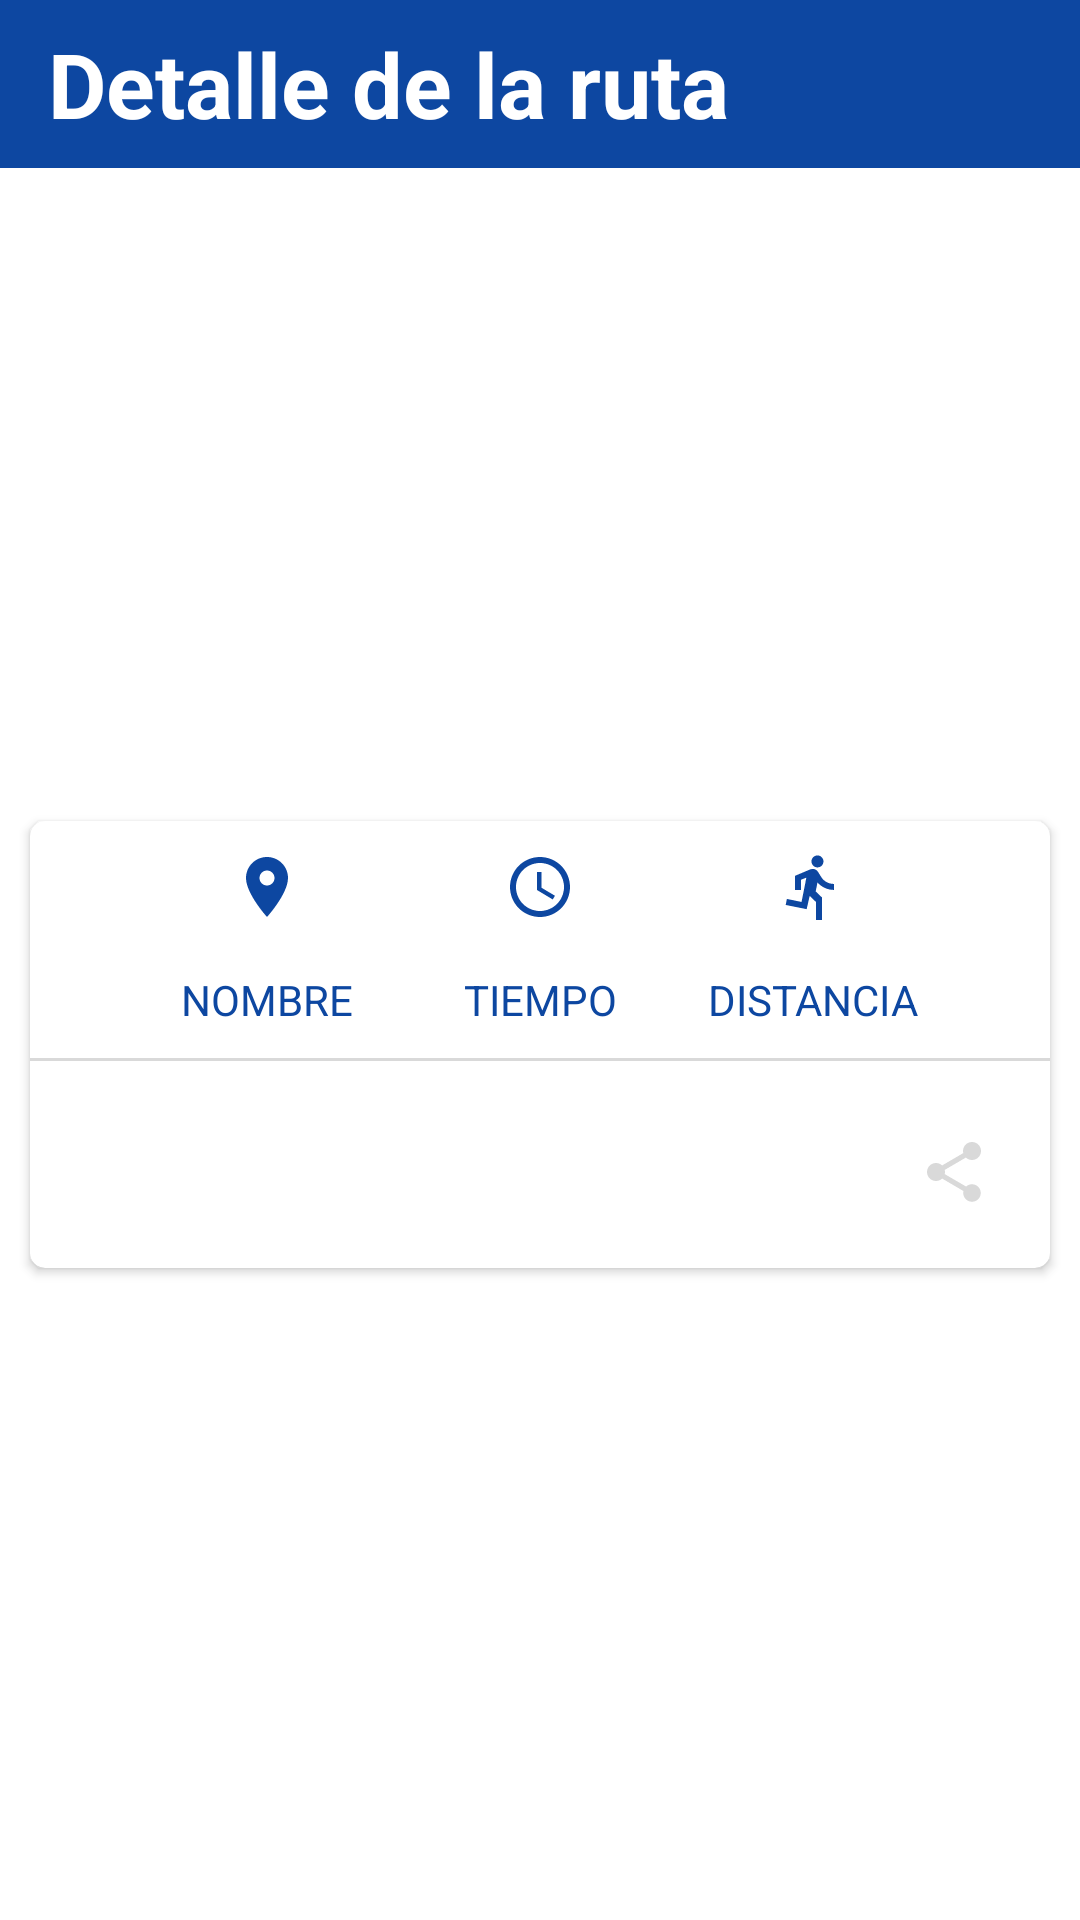

Named icons in this screenshot (1080*1920) and their centers, point (x, y):
distance: point (809, 887)
location: point (267, 887)
share: point (954, 1172)
time: point (540, 887)
